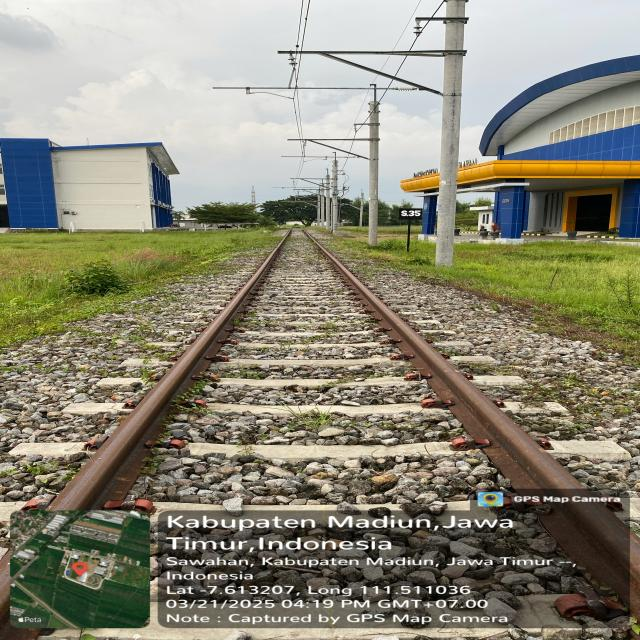rail-detection: (304, 230, 638, 608), (51, 230, 290, 510)
